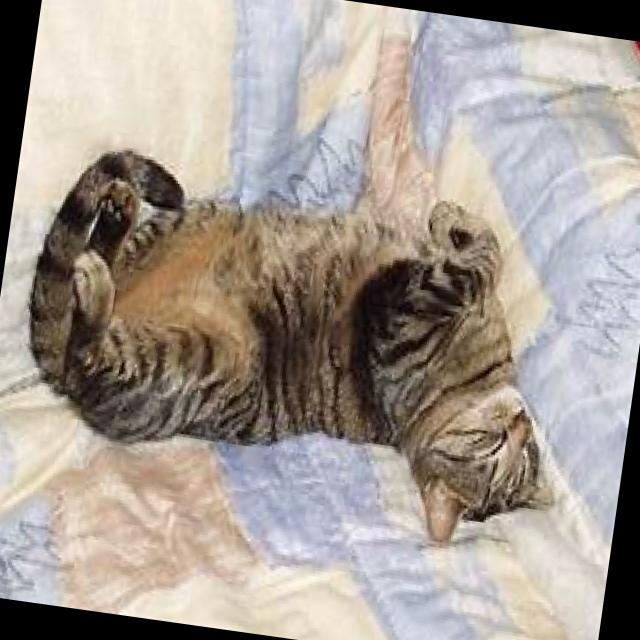animal: (0, 133, 595, 560)
